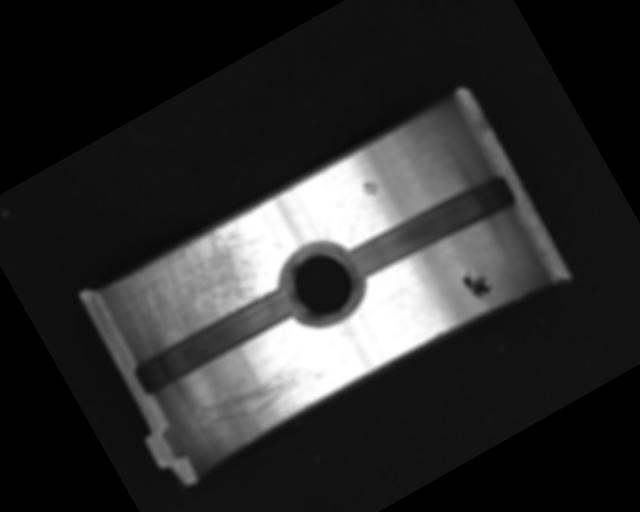blot: (458, 262, 498, 305)
bruise: (358, 174, 383, 199)
gap: (341, 165, 519, 289), (129, 280, 303, 401)
hole: (267, 231, 377, 340)
nick: (196, 339, 329, 440), (311, 203, 349, 242)
scratch: (103, 200, 301, 364)
